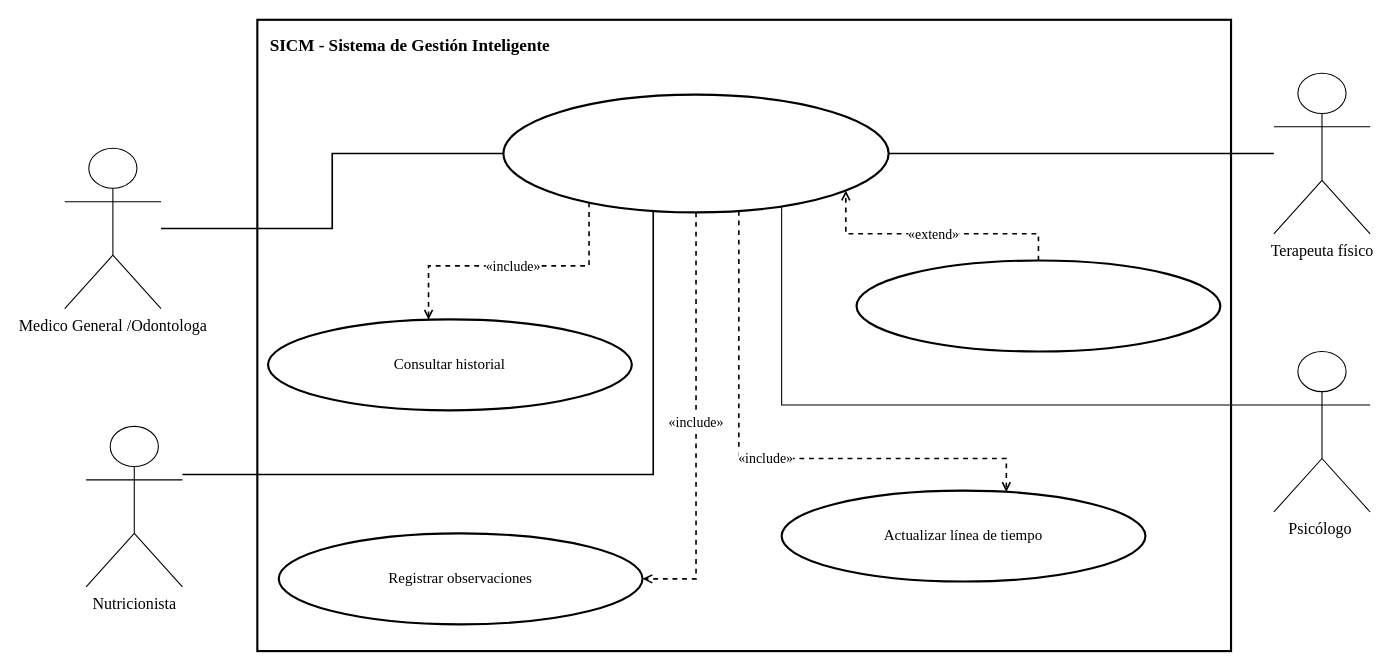
This 1391x670 diagram has some shape labels left out. Each missing label, with the centre of its shape:
Confirmar fecha no cronológica: point 1038,305
Registrar evolución clínica: point 695,153
